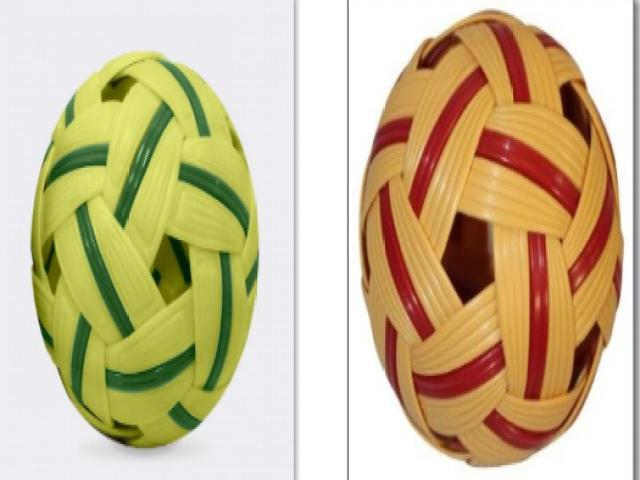round ball: (361, 11, 622, 465), (32, 52, 258, 447)
